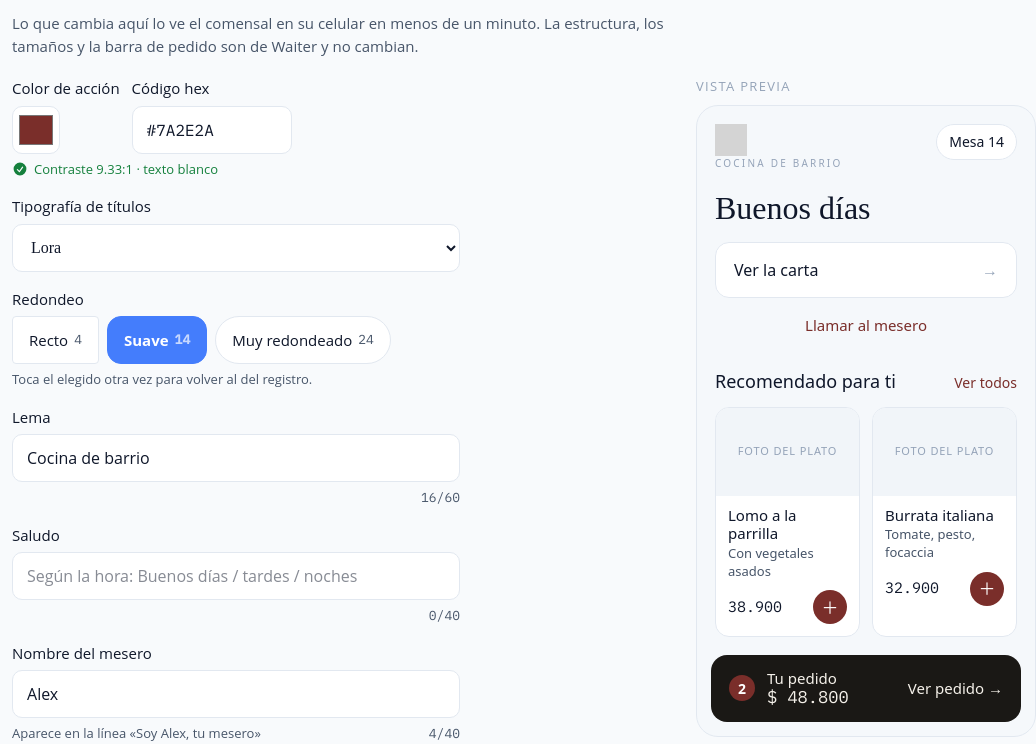
Test: updates the contrast readout and blocks saving on a color below 4.5:1
Replace the text in the field labelled "Código hex" with "#808080". click: (212, 130)
box: [132,106,292,154]
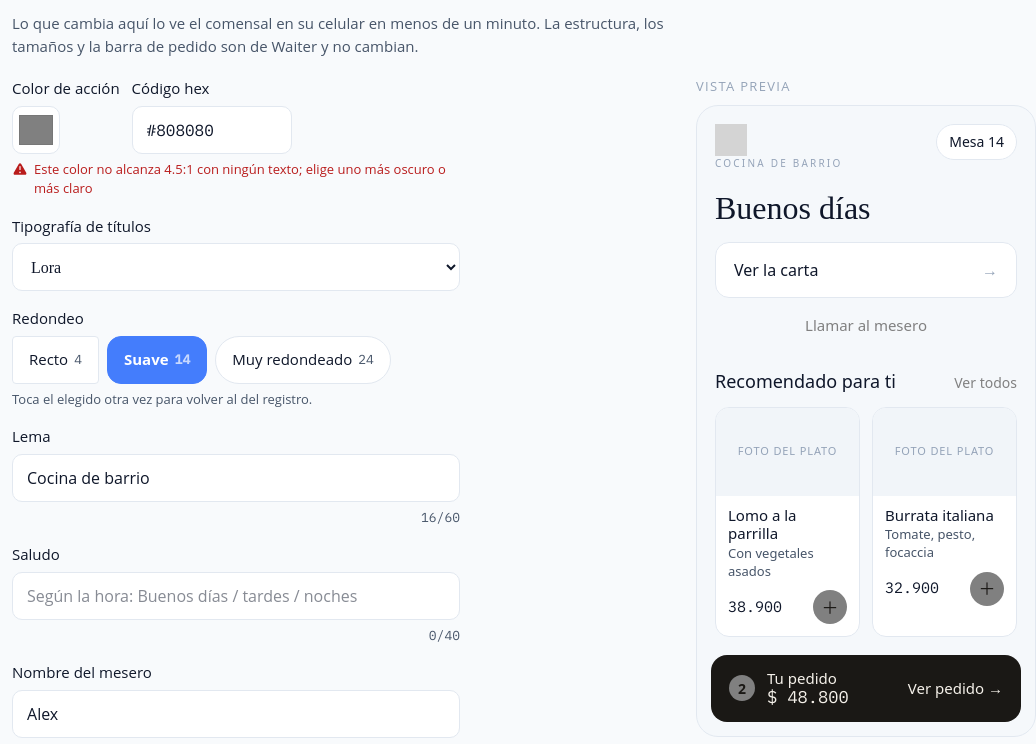
Expected: the message shows "Este color no alcanza 4.5:1 con ningún texto", [34,160,446,197]
Replace the text in the field labelled "Código hex" with "#2f7a4f". click: (212, 130)
box: [132,106,292,154]
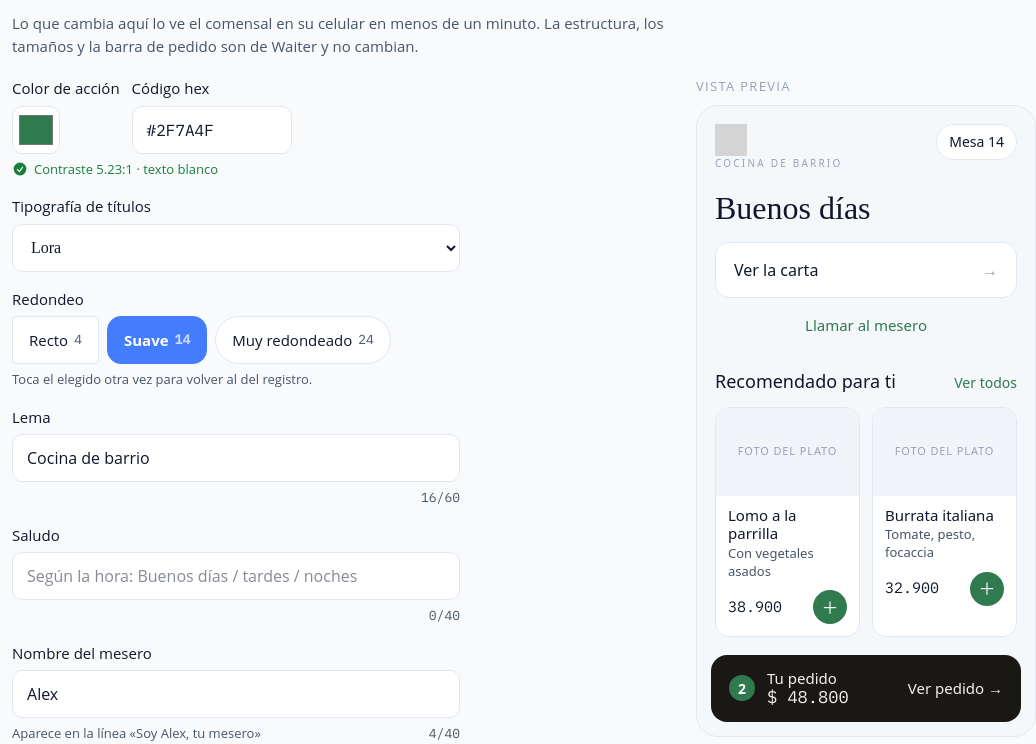
Expected: the text "Contraste 5.23:1 · texto blanco" is shown, [12,160,218,178]
Replace the text in the field labelled "Código hex" with "#7A2E". click: (212, 130)
box: [132,106,292,154]
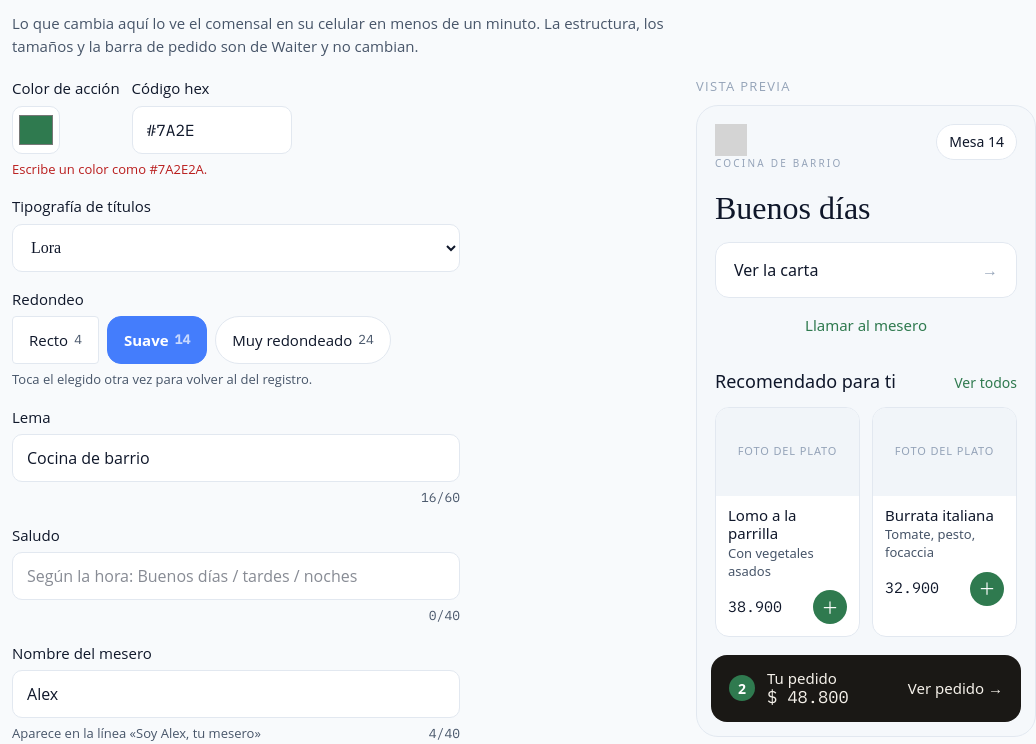
Expected: the message reads "Escribe un color como #7A2E2A.", [12,160,207,178]
